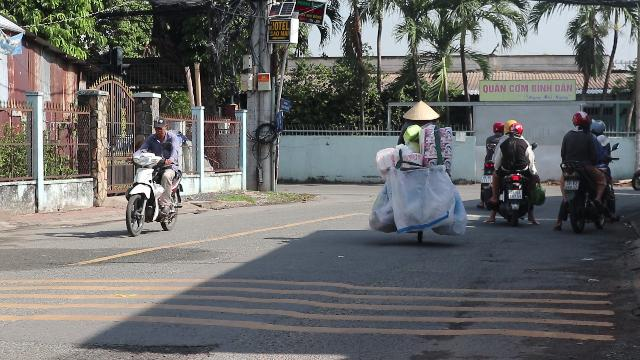helmet: (571, 110, 591, 130), (508, 120, 524, 136)
licenseplate: (564, 179, 578, 188), (508, 190, 522, 198)
motorcyclist: (554, 109, 618, 232), (120, 116, 183, 236), (483, 120, 541, 226)
nohelmet: (152, 117, 166, 135)
